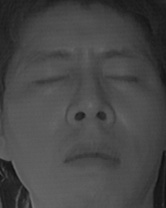blink: (30, 65, 71, 94), (102, 66, 140, 90)
mouth: (58, 139, 123, 175)
